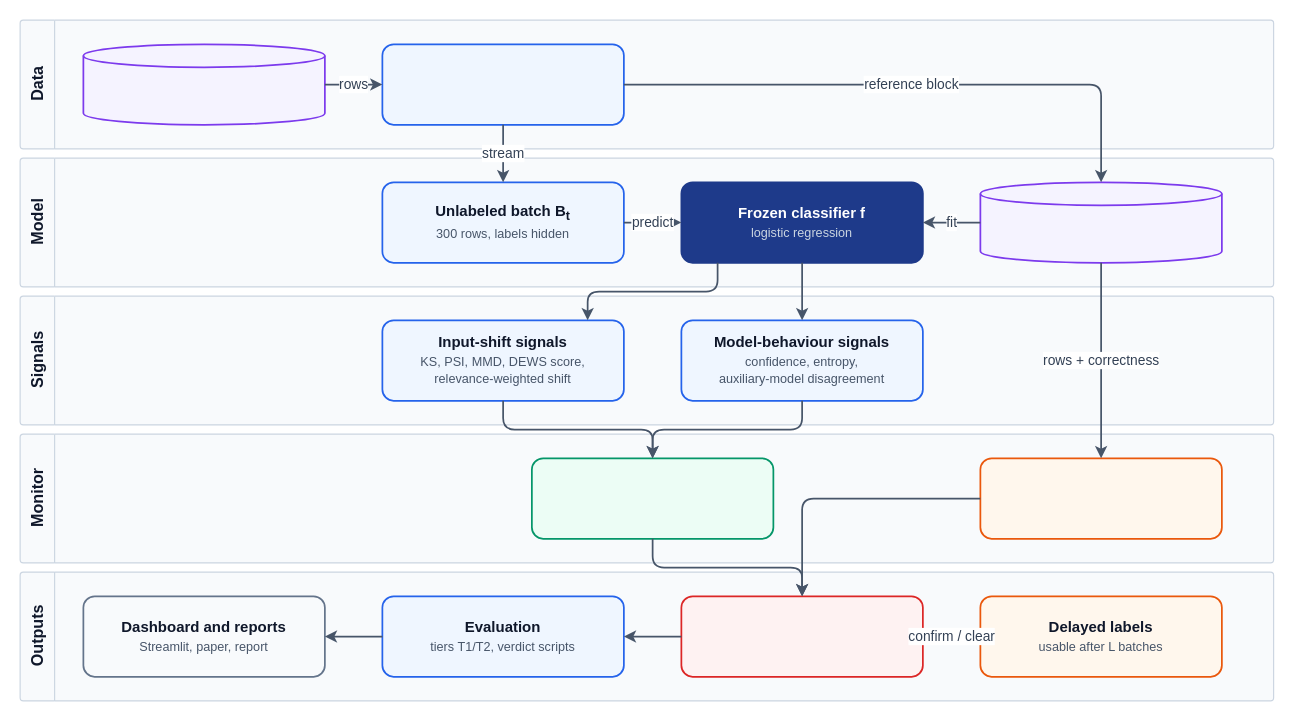
This 1294x721 diagram has some shape labels left out. The shapes that lost their labels are listed below. From the top down, each one's centre as x and y in pixels, then its label:
At (203,84): "OpenML datasets 24 public tabular sets".
At (502,84): "Benchmark generator re-sampled episodes, known onset; or natural streams".
At (1100,222): "Labeled reference R 2000 rows: fit + importance".
At (652,498): "Drift watch (v7) robust z vs burn-in, max ≥ 4.0".
At (1100,498): "Harm tier (v8) importance-weighted accuracy of f on R (vs B t ), drop ≥ 1.15 pts".
At (801,636): "Alerts WATCH and HARM per batch".
